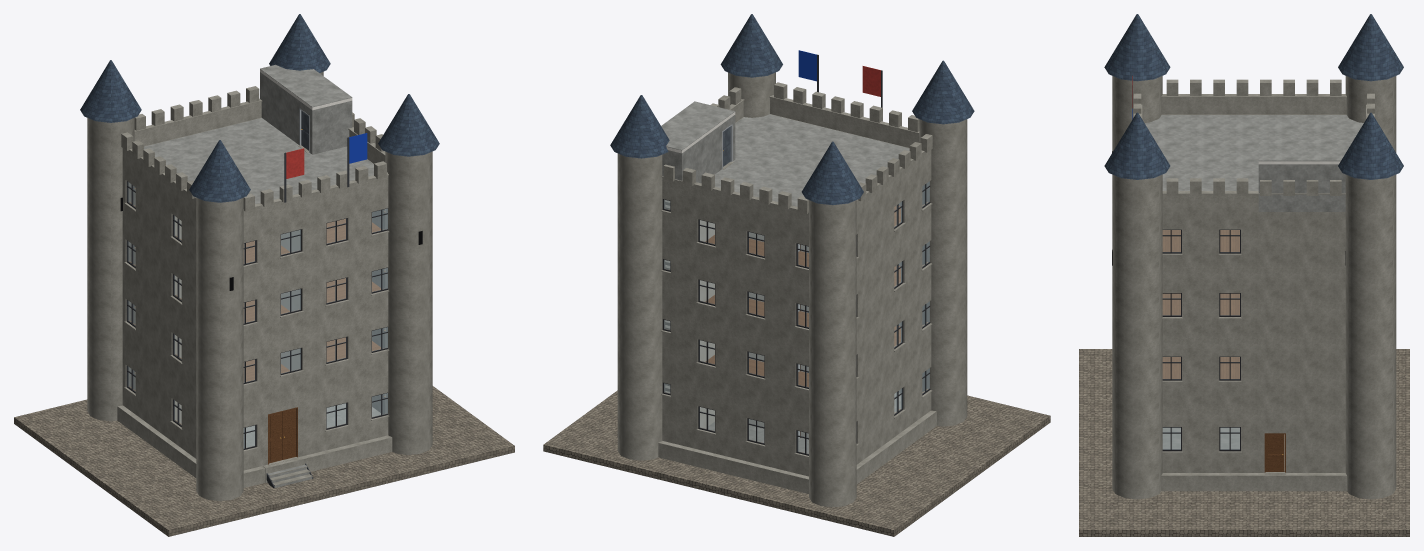
Rendered from b_castle_keep.gltf.
3 views of the same model, side by side, from view 1: azimuth 30°, elevation 25°; view 2: azimuth 150°, elevation 25°; view 3: azimuth 270°, elevation 25° (orthographic). The views are drawn at different scales.
Parts seen in each view (by area): view 1: S_castle_keep, D_castle_keep_F1_S3_Door1, D_castle_keep_F1_S3_Door0; view 2: S_castle_keep; view 3: S_castle_keep, D_castle_keep_F1_E2_Door0.
Part boxes in pixels (x1=…): S_castle_keep: x1=14, y1=14, x2=514, y2=536; D_castle_keep_F1_S3_Door1: x1=282, y1=408, x2=296, y2=459; D_castle_keep_F1_S3_Door0: x1=269, y1=412, x2=281, y2=463; S_castle_keep: x1=543, y1=14, x2=1050, y2=536; S_castle_keep: x1=1079, y1=14, x2=1409, y2=536; D_castle_keep_F1_E2_Door0: x1=1265, y1=434, x2=1284, y2=471.
Size of the model in its own units: 22 by 21.7 by 17.
22 materials, 13 textured.
